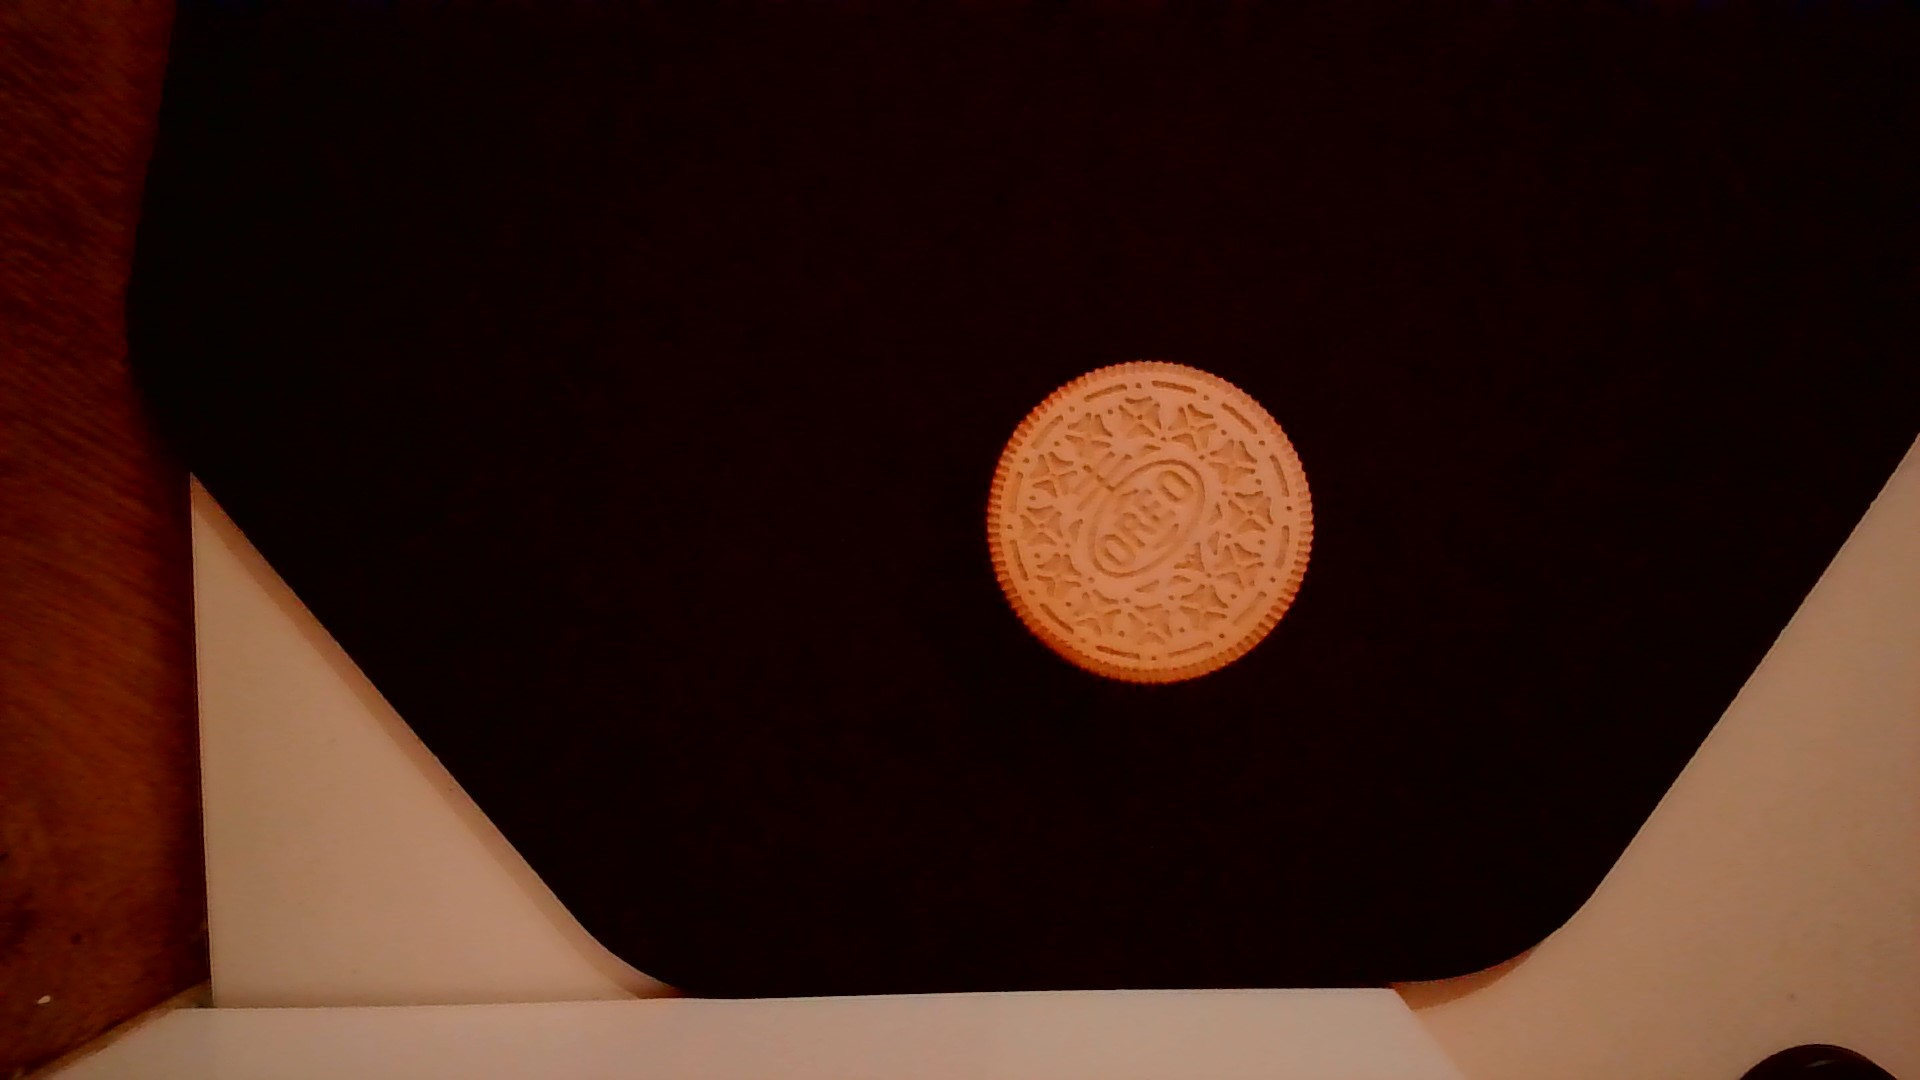Oréo: (978, 353, 1329, 699)
